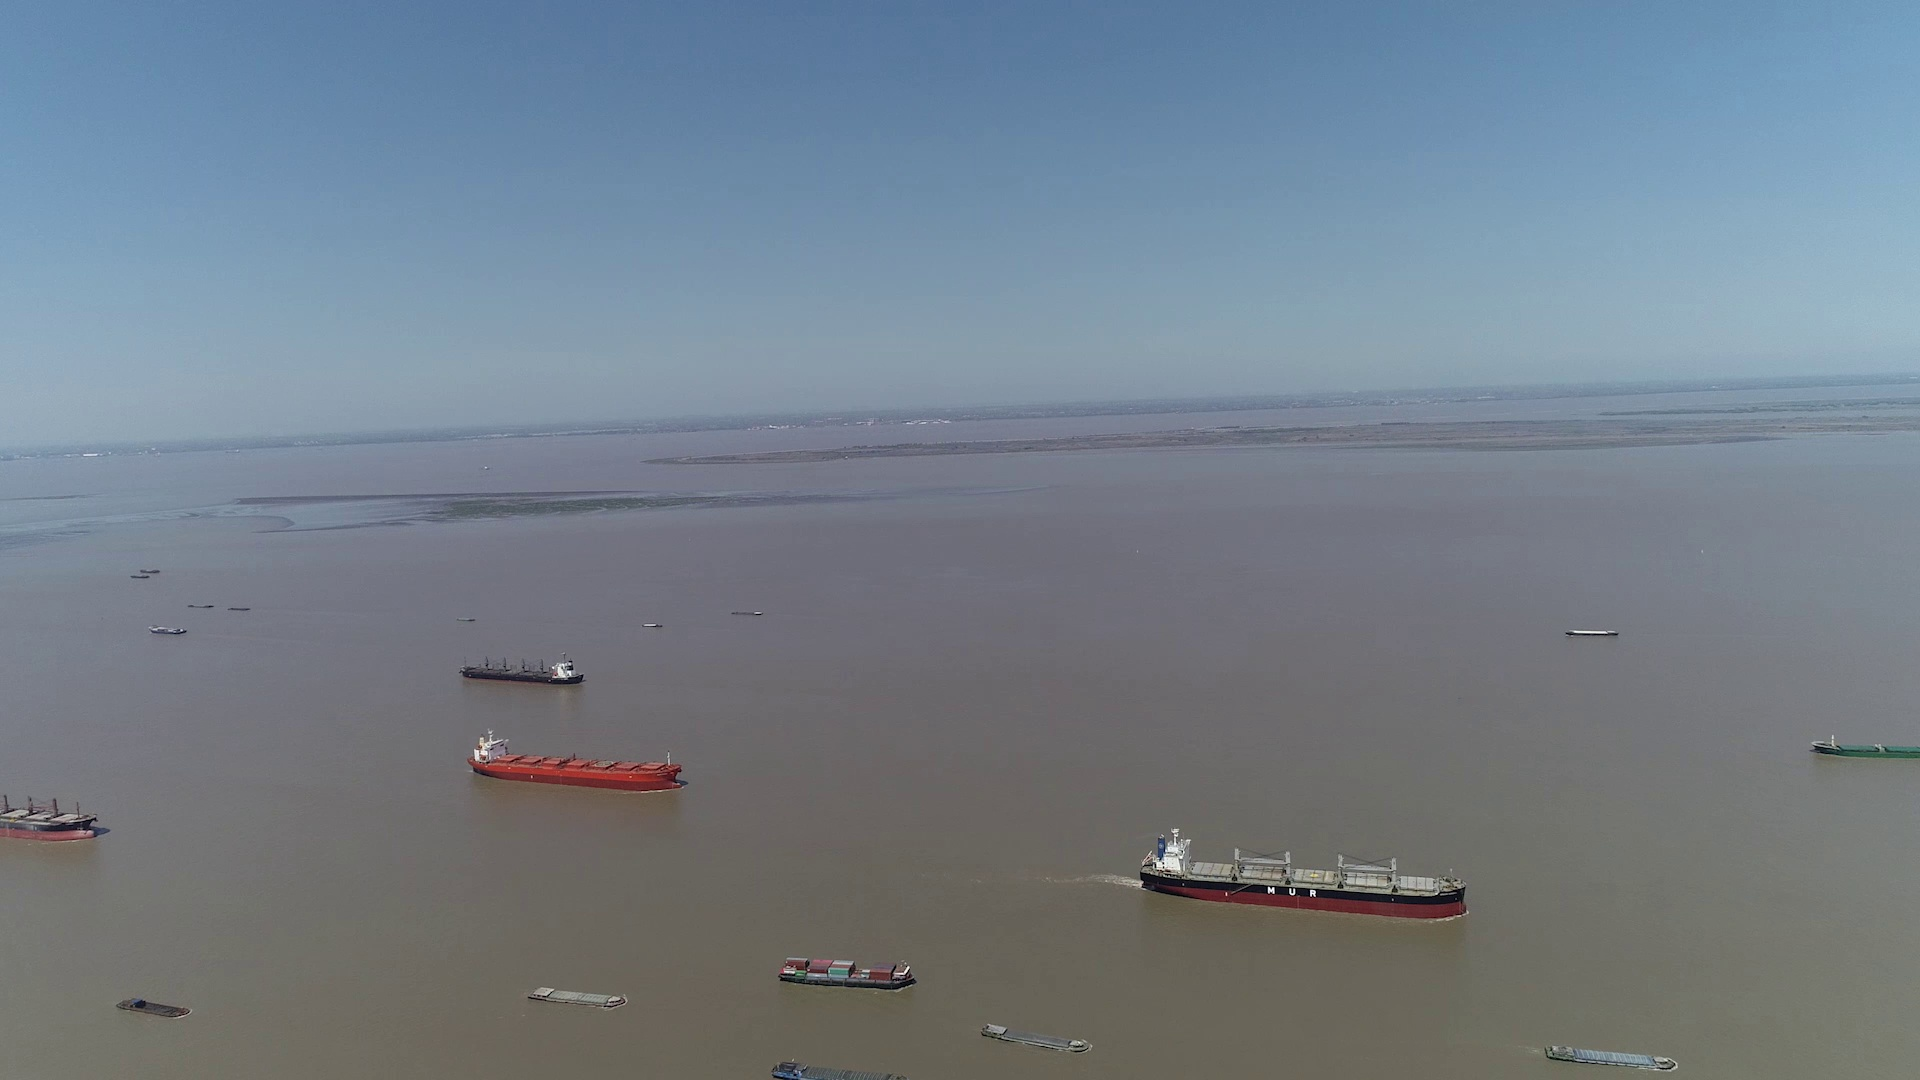ship: (1139, 827, 1468, 916), (469, 728, 682, 791), (0, 781, 102, 844), (777, 957, 916, 990), (462, 651, 585, 684), (1544, 1044, 1676, 1072), (980, 1022, 1092, 1054), (773, 1059, 902, 1080), (525, 985, 629, 1009), (1811, 738, 1919, 760), (116, 998, 190, 1018), (1567, 628, 1617, 637), (148, 624, 187, 634)
